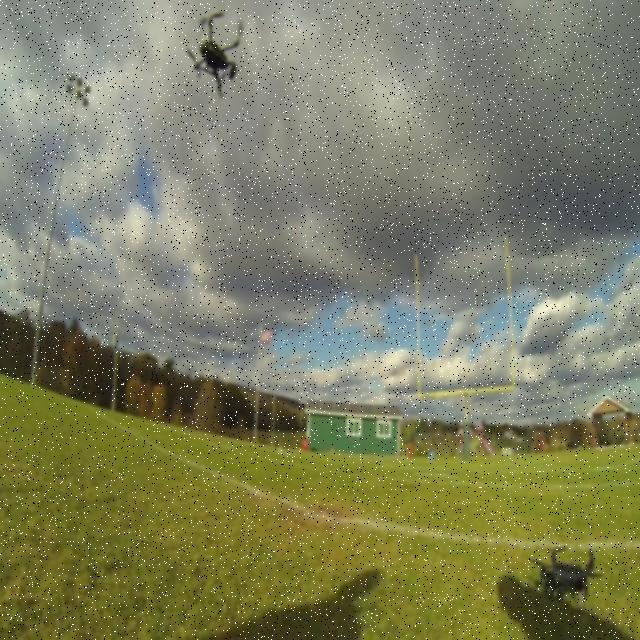UAV: (185, 10, 243, 99), (528, 547, 604, 608)
